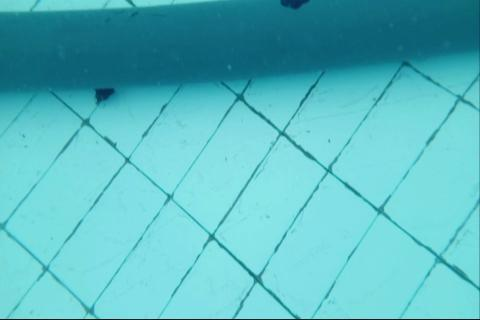kebocoran: (277, 0, 311, 12)
keretakan: (103, 7, 166, 25)
